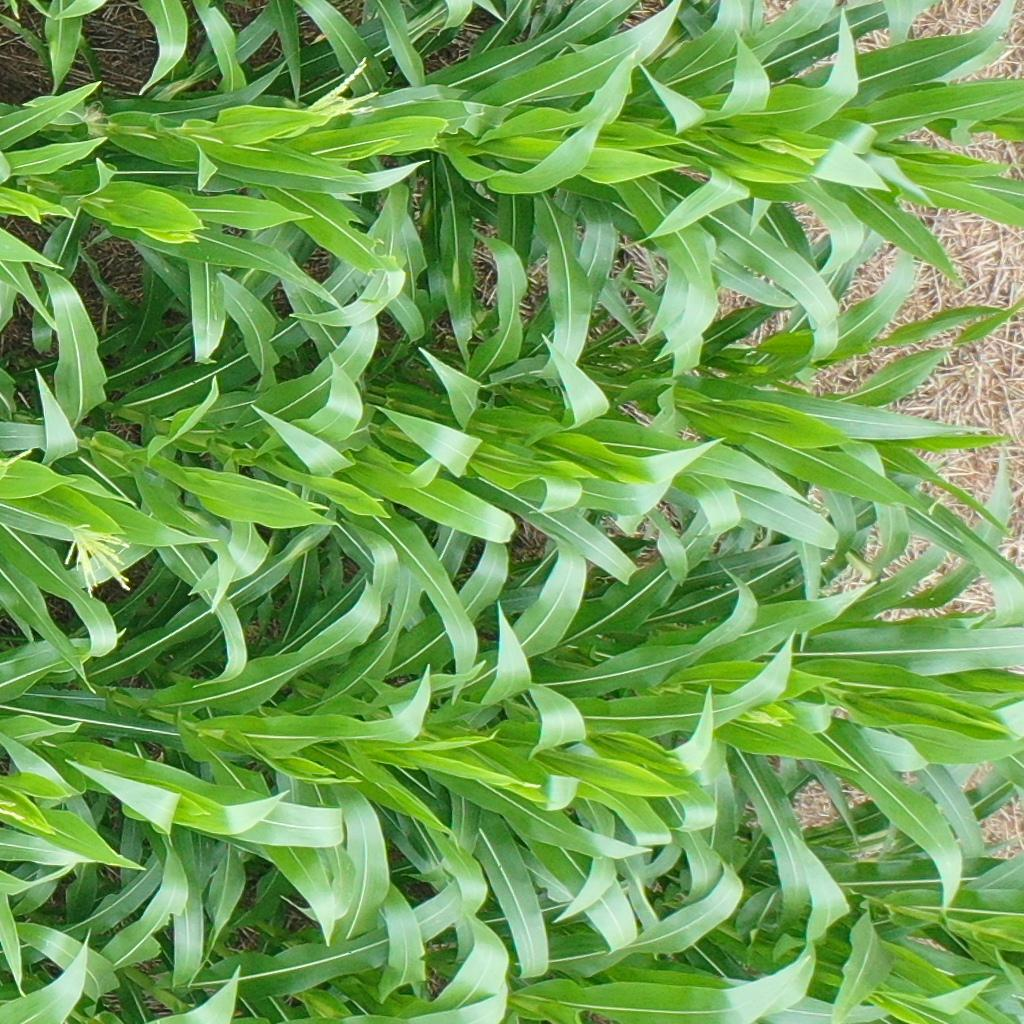Tassel: (59, 519, 136, 601), (294, 53, 385, 118), (750, 139, 820, 167), (1, 792, 31, 827), (746, 703, 784, 730)
